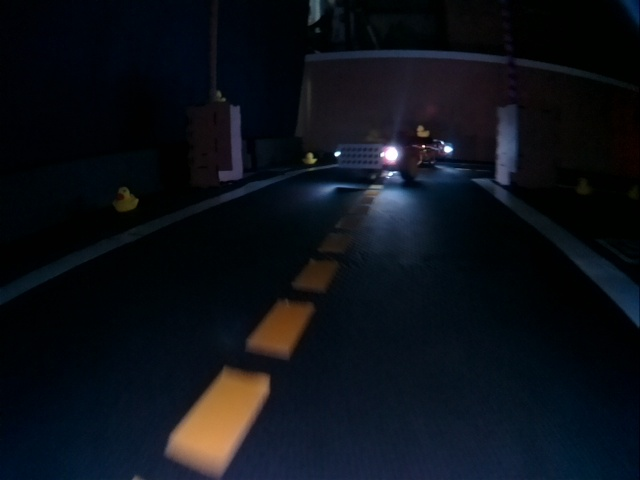Duckie: (113, 188, 138, 210), (578, 179, 590, 195), (415, 125, 428, 138), (305, 152, 317, 163), (214, 91, 226, 100)
Duckiebot: (337, 142, 420, 179)
